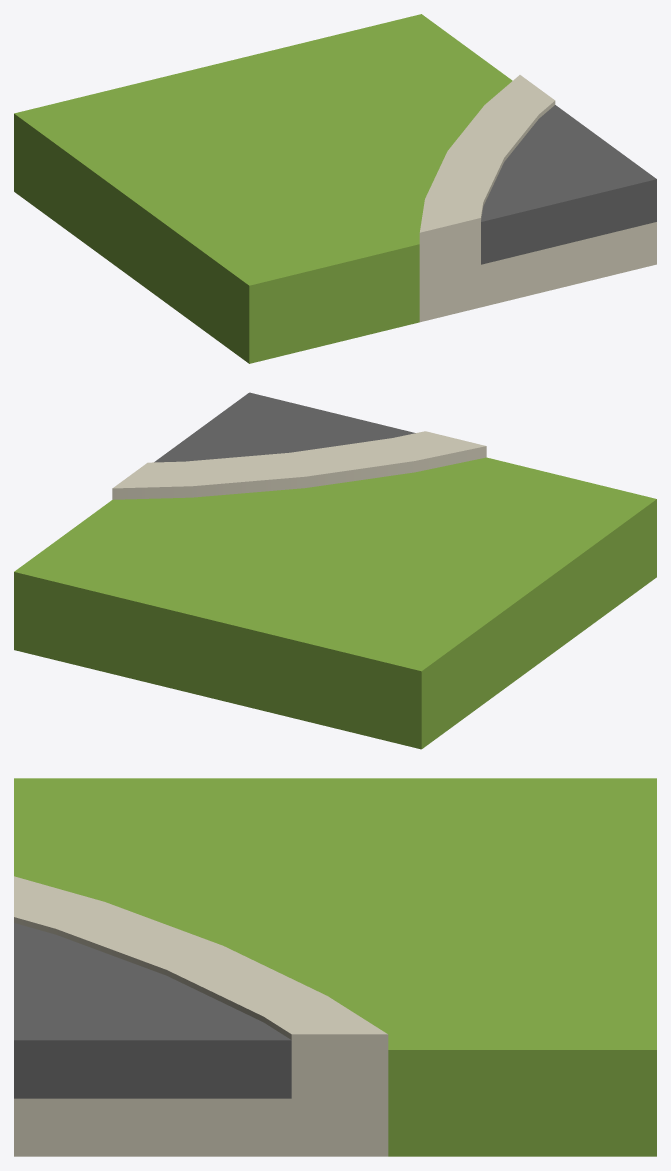
The model's file is tile177.fbx.
3 renders of one model, top to bottom at view 1: azimuth 30°, elevation 25°; view 2: azimuth 150°, elevation 25°; view 3: azimuth 270°, elevation 25°, orthographic. The views are drawn at different scales.
Visible parts, largest first — view 1: tile177; view 2: tile177; view 3: tile177.
Part boxes in pixels (x1,y1,x2,y2): tile177: (14,14,656,363); tile177: (14,392,656,749); tile177: (14,778,656,1156).
Bounding box in the file's own units: 10 × 2.1 × 10.
